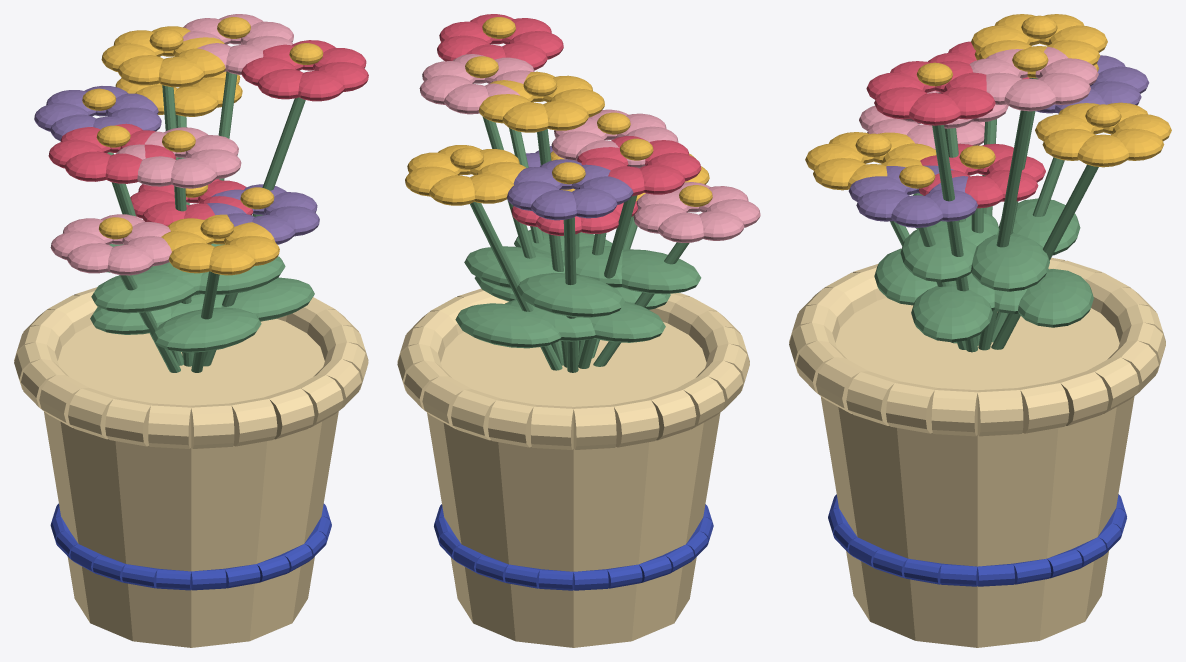
The model's file is bouquet-potted-plant.glb.
3 renders of one model, left to right at view 1: azimuth 30°, elevation 25°; view 2: azimuth 150°, elevation 25°; view 3: azimuth 270°, elevation 25°, orthographic. The views are drawn at different scales.
Visible parts, largest first — view 1: bouquet-potted-plant; view 2: bouquet-potted-plant; view 3: bouquet-potted-plant.
Boxes of the visible parts, <box> form: bouquet-potted-plant: <box>14,14,368,647</box>; bouquet-potted-plant: <box>397,14,760,647</box>; bouquet-potted-plant: <box>789,14,1171,647</box>.
Size of the model in its own units: 0.5694 by 0.965 by 0.5782.
